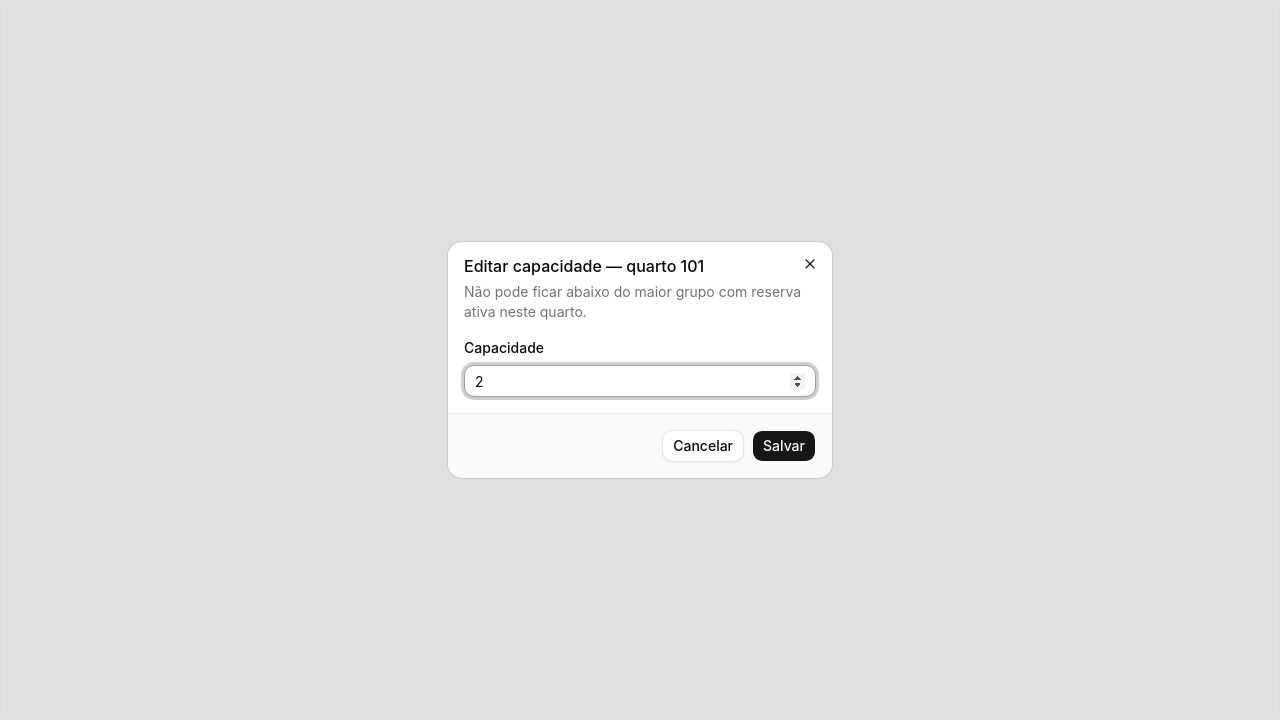
Test: RoomCapacityDialog › edita a capacidade e devolve o 400 do servidor ao campo
Replace the text in the number field labelled "Capacidade" with "1" at (640, 381), box [464,365,816,397]
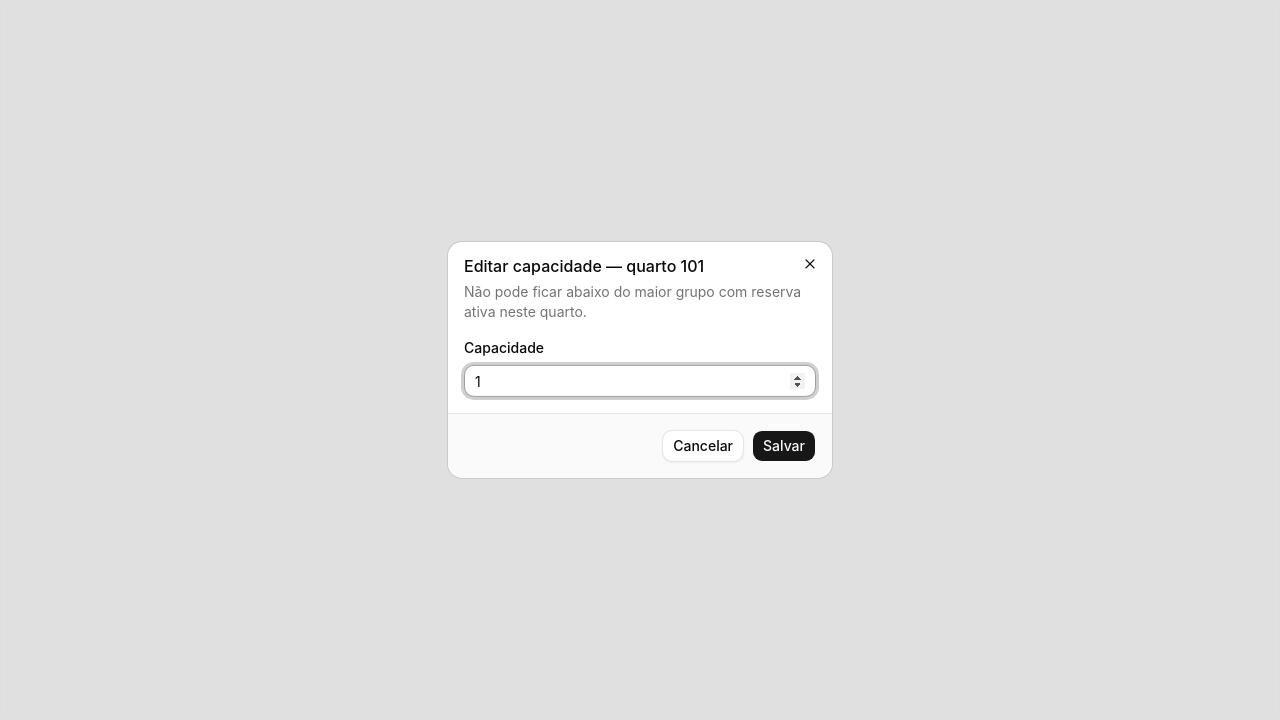
Click the button "Salvar" at (784, 446), box [752,430,816,462]
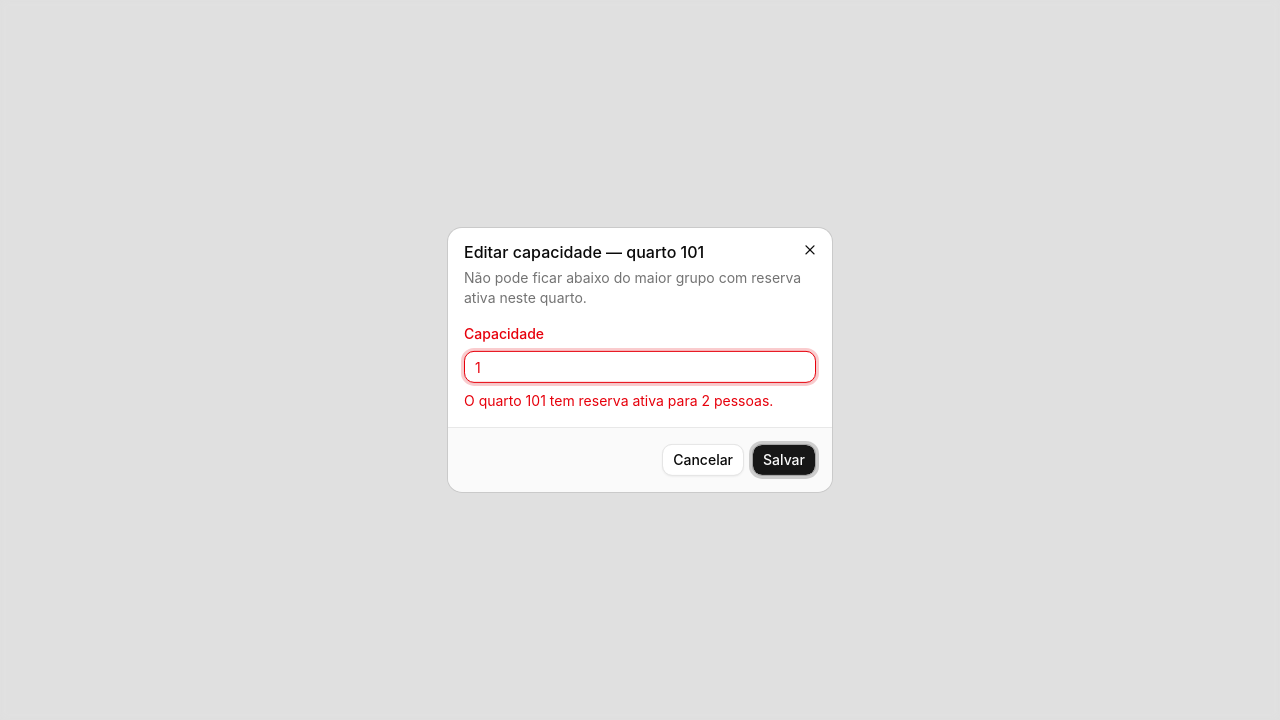
Now the text "O quarto 101 tem reserva ativa para 2 pessoas." is shown, box [464,391,816,411]
